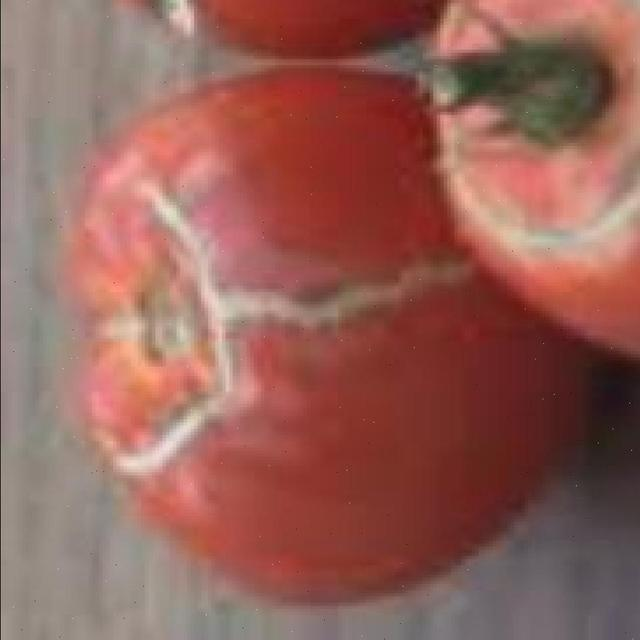Cracking Fruit: (143, 110, 355, 213)
